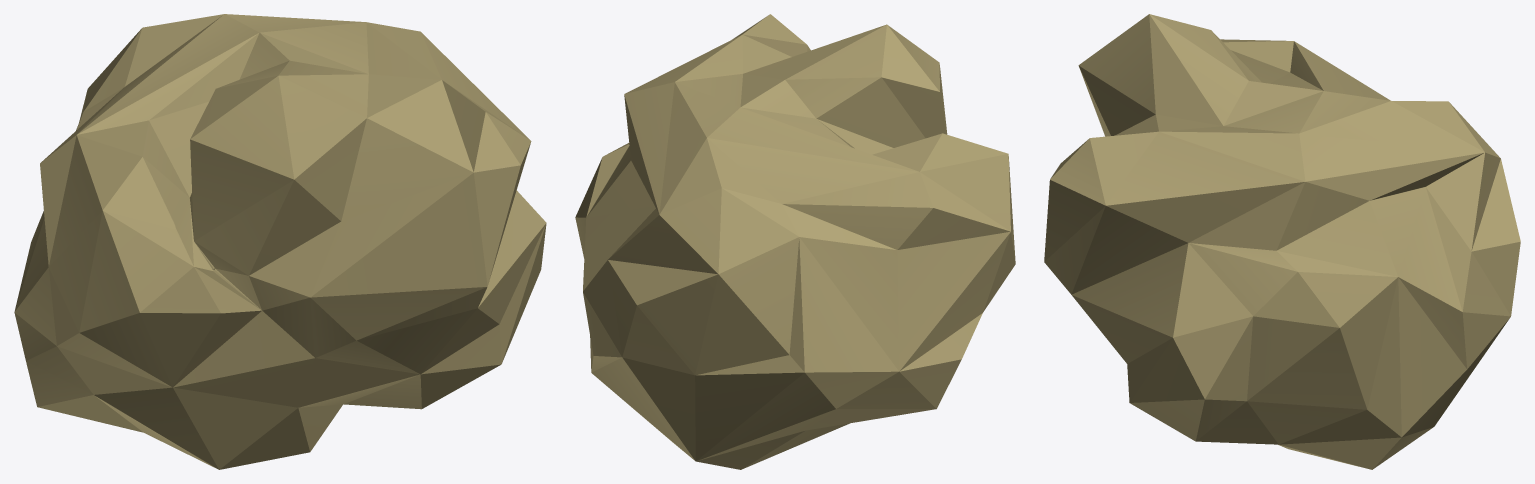
Rendered from SM_rock_03.fbx.
3 renders of one model, left to right at view 1: azimuth 30°, elevation 25°; view 2: azimuth 150°, elevation 25°; view 3: azimuth 270°, elevation 25°, orthographic. The views are drawn at different scales.
Parts seen in each view (by area): view 1: rock_03; view 2: rock_03; view 3: rock_03.
Part boxes in pixels (x1,y1,x2,y2): rock_03: (14,14,546,469); rock_03: (575,14,1015,469); rock_03: (1044,14,1520,469).
Bounding box in the file's own units: 379 × 343 × 363.
